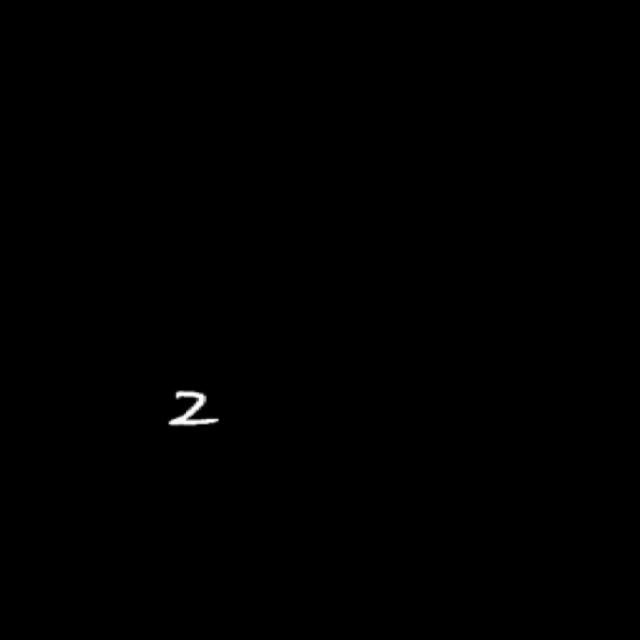two -2-: (155, 384, 238, 438)
